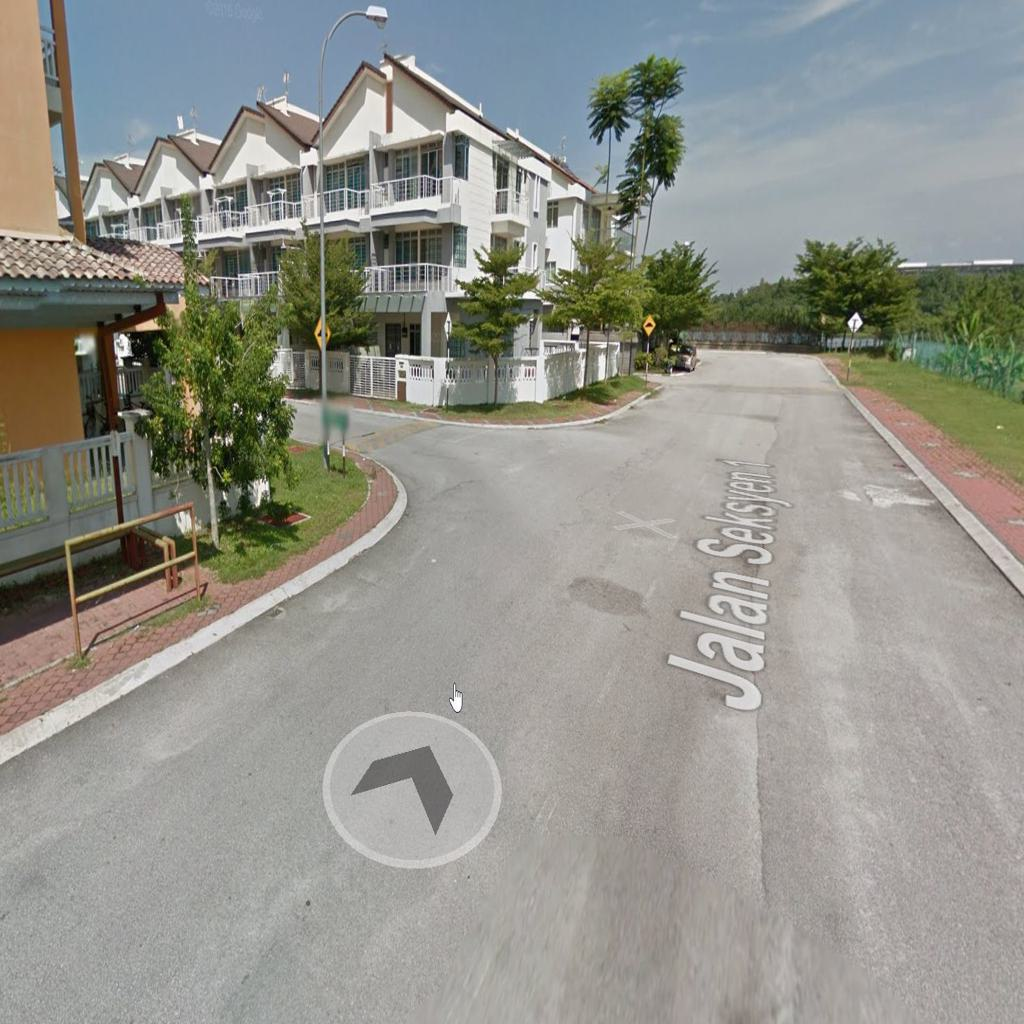Junction: (332, 396, 573, 556)
